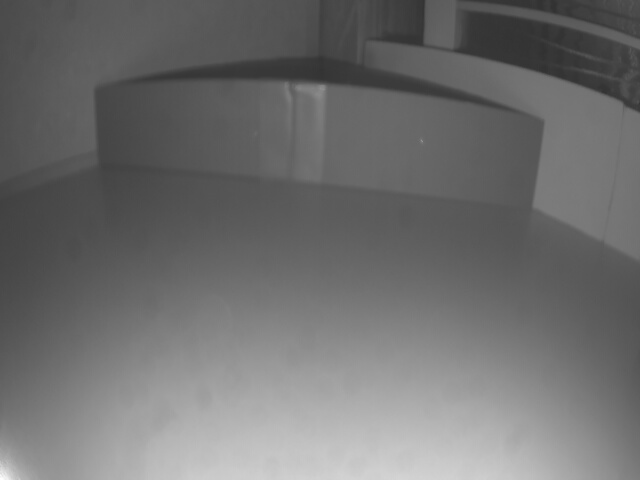Point: (95, 88, 535, 209)
